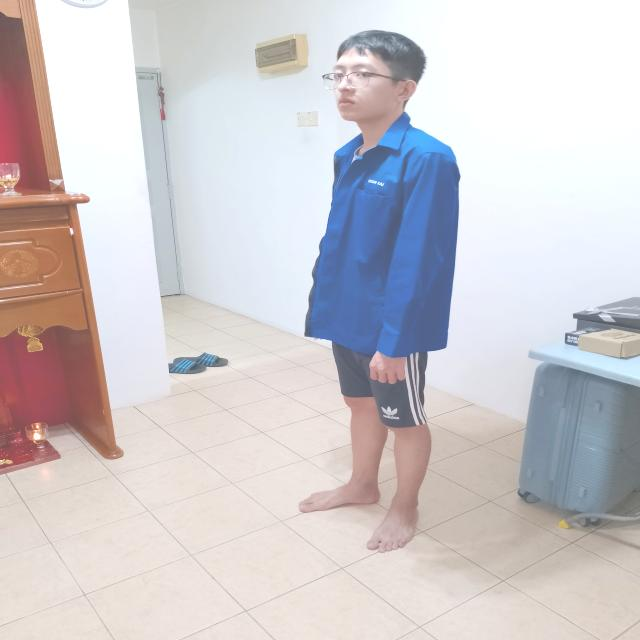person_with_labcoat: (299, 31, 460, 553)
